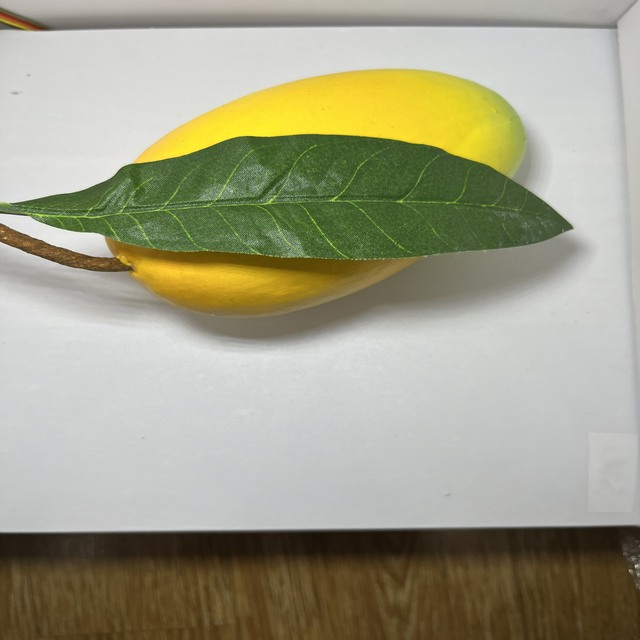Xoai: (65, 0, 555, 382)
